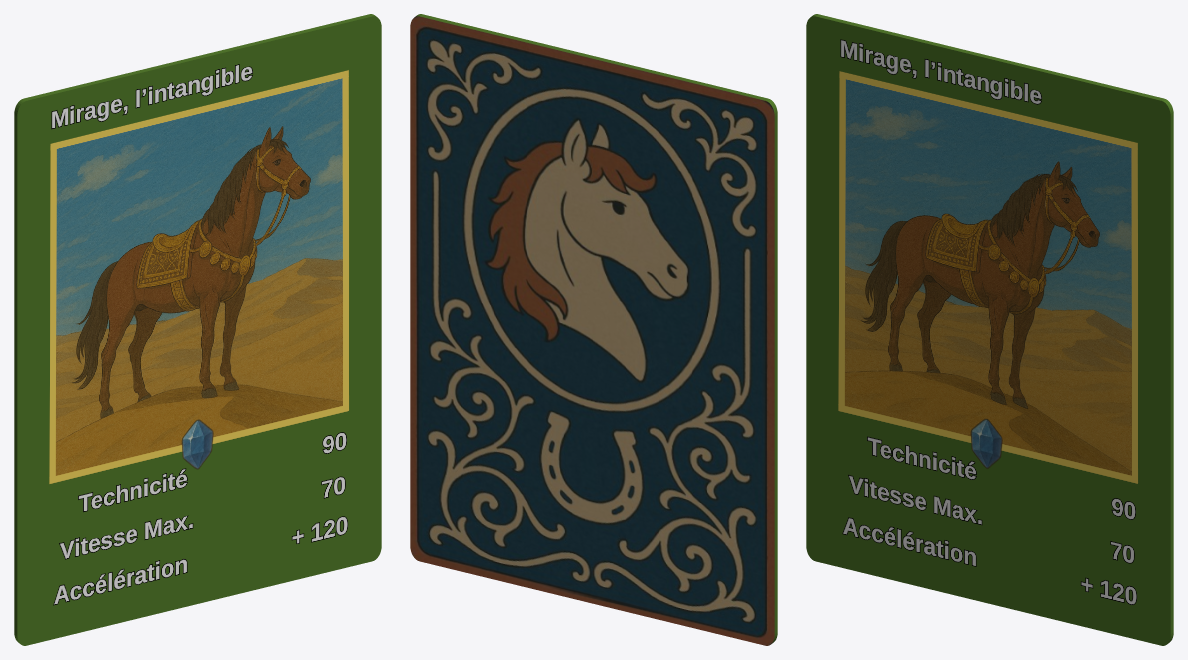
File: Mirage.glb
3 renders of one model, left to right at view 1: azimuth 30°, elevation 25°; view 2: azimuth 150°, elevation 25°; view 3: azimuth 330°, elevation 25°, orthographic.
Parts seen in each view (by area): view 1: Plane; view 2: Plane; view 3: Plane.
Boxes of the visible parts, x1,y1,x2,y2 form: Plane: [14, 14, 381, 645]; Plane: [410, 14, 777, 645]; Plane: [806, 14, 1173, 645].
Size of the model in its own units: 3.5 by 5 by 0.05.
Materials: 2 (2 with a texture image).
